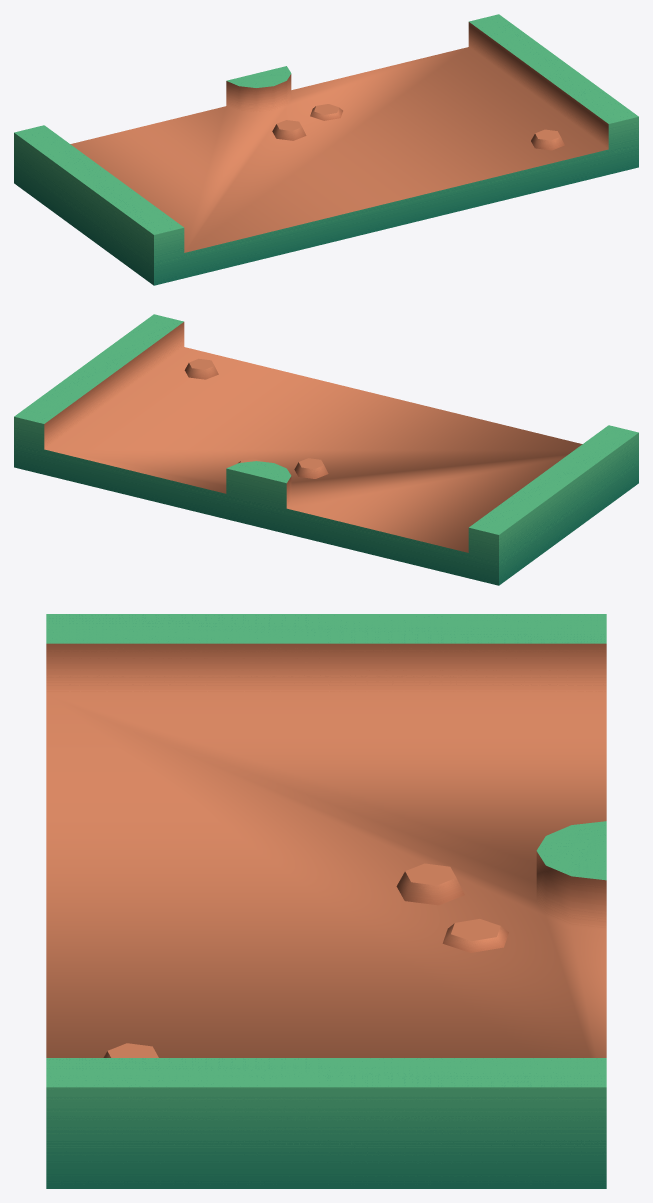
The model's file is tower-defense-kit--tile-wide-split.glb.
3 renders of one model, top to bottom at view 1: azimuth 30°, elevation 25°; view 2: azimuth 150°, elevation 25°; view 3: azimuth 270°, elevation 25°, orthographic. The views are drawn at different scales.
Visible parts, largest first — view 1: tile-wide-split; view 2: tile-wide-split; view 3: tile-wide-split.
Boxes of the visible parts, box(x1,y1,x2,y2) form: tile-wide-split: box(14, 14, 638, 285); tile-wide-split: box(14, 314, 638, 585); tile-wide-split: box(46, 614, 606, 1188).
Size of the model in its own units: 2 by 0.2 by 1.
1 material, 1 textured.
